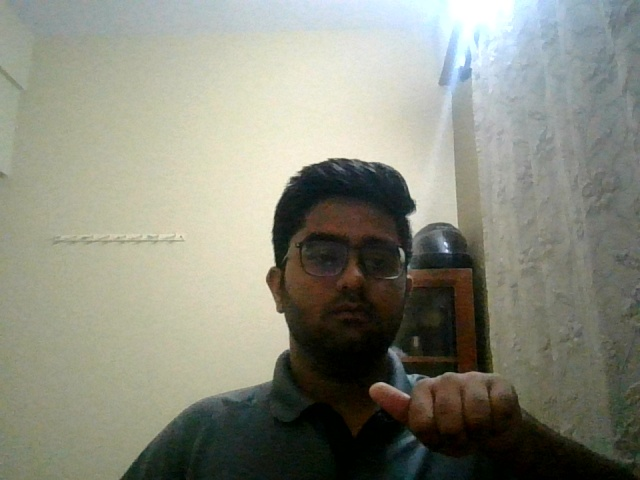Yes: (351, 354, 592, 480)
